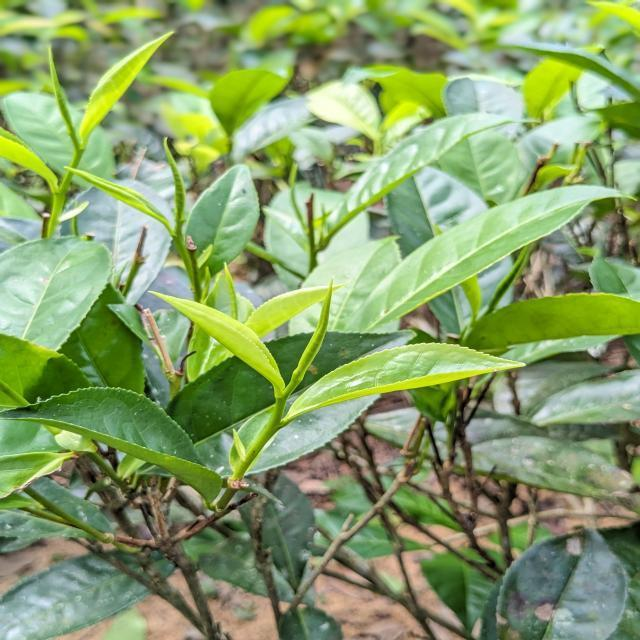Stem: (276, 395, 286, 411), (173, 235, 183, 244), (74, 150, 85, 158)
